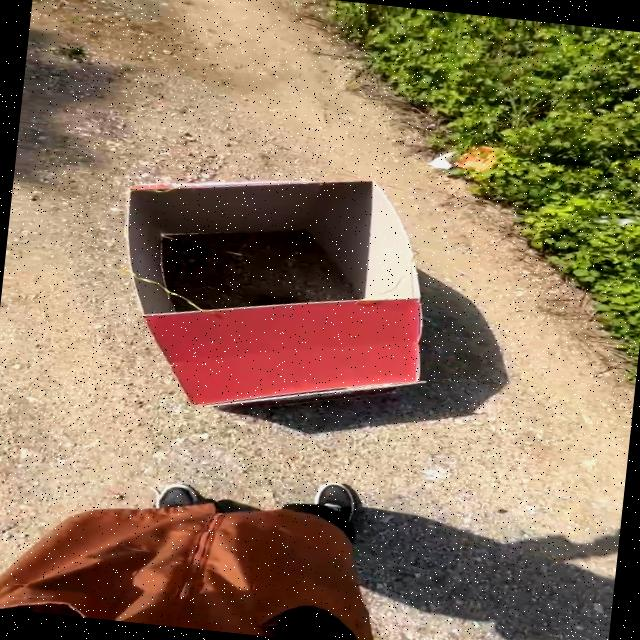red_car: (32, 132, 498, 435)
